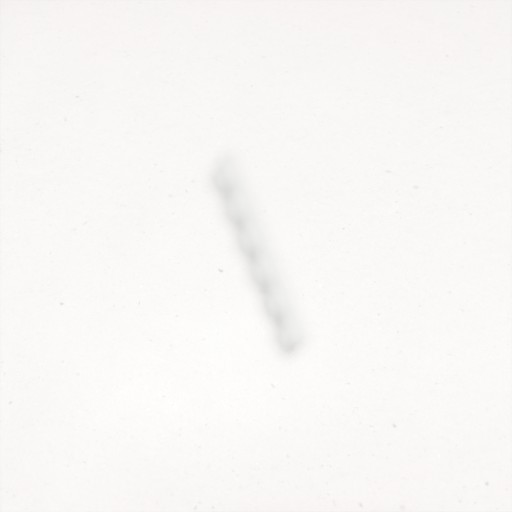lego: (207, 147, 314, 361)
